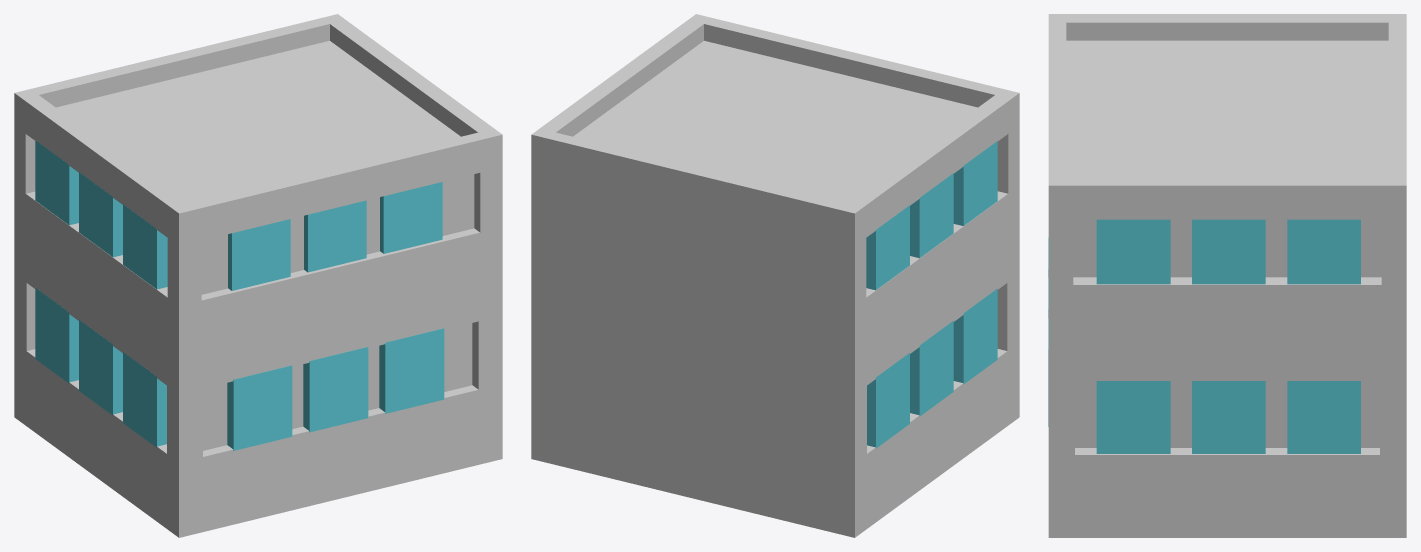
The model's file is MiddleHouseBlock.fbx.
3 renders of one model, left to right at view 1: azimuth 30°, elevation 25°; view 2: azimuth 150°, elevation 25°; view 3: azimuth 270°, elevation 25°, orthographic. The views are drawn at different scales.
Parts seen in each view (by area): view 1: polySurface7, pCube53; view 2: polySurface7, pCube53; view 3: polySurface7, pCube53.
Part boxes in pixels (<box>): polySurface7: <box>14,14,502,537</box>; pCube53: <box>35,140,444,450</box>; polySurface7: <box>531,14,1019,537</box>; pCube53: <box>866,141,997,448</box>; polySurface7: <box>1048,14,1406,537</box>; pCube53: <box>1048,219,1360,453</box>.
Bounding box in the file's own units: 7.75 × 7.42 × 6.84.
